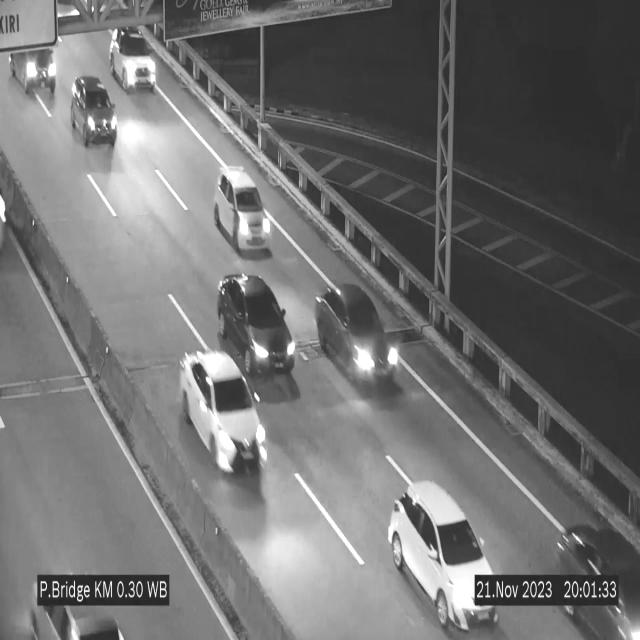Car: (388, 482, 498, 634), (540, 510, 640, 640), (180, 350, 266, 472), (314, 284, 400, 386), (217, 274, 295, 380), (28, 580, 128, 640), (214, 167, 272, 253), (8, 30, 66, 102), (71, 76, 117, 146), (109, 28, 157, 90)
